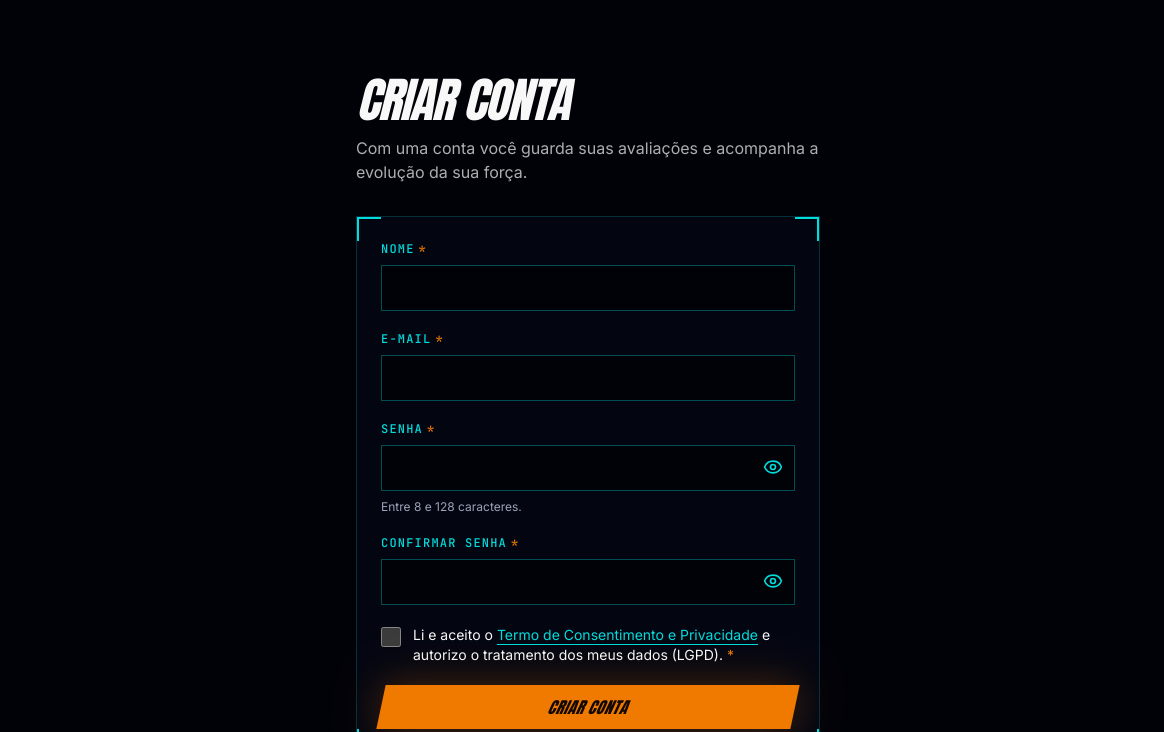
it: CadastroPage › cria a conta, entra automaticamente e redireciona para o next
Type "Ana Souza" into the field labelled "Nome*". click: (588,288)
box: x1=381 y1=265 x2=795 y2=311
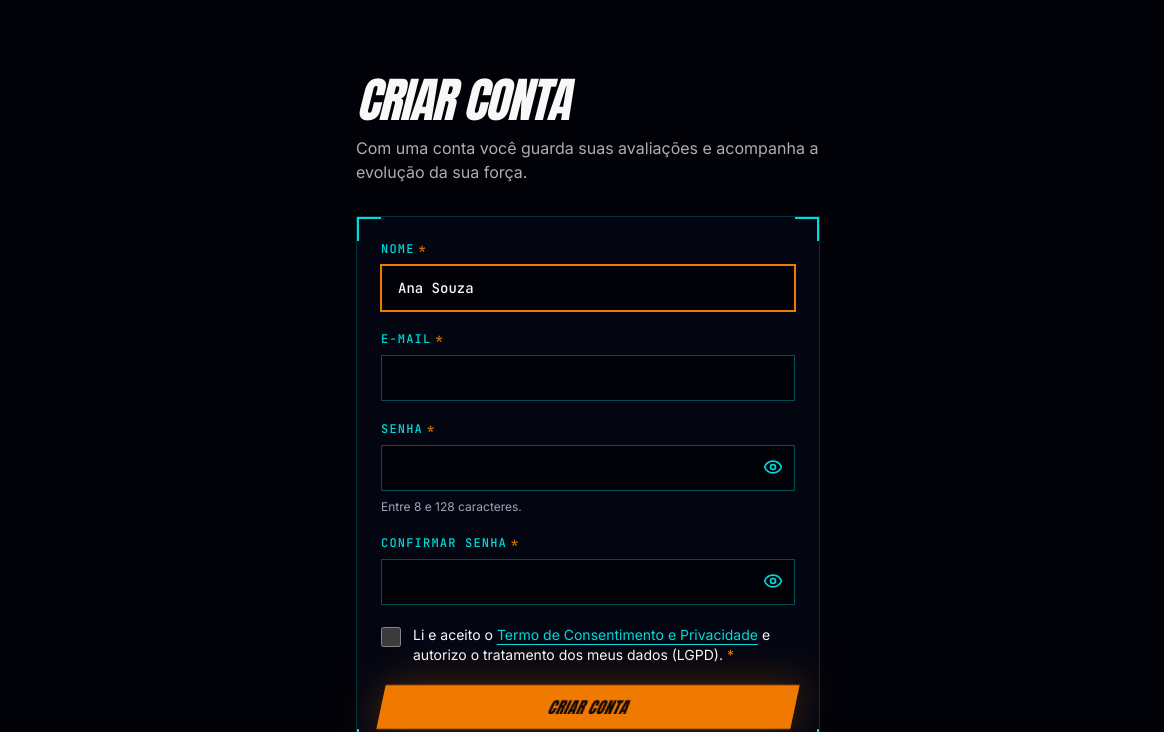
Type "ana@exemplo.com" into the field labelled "E-mail*". click: (588,378)
box: x1=381 y1=355 x2=795 y2=401
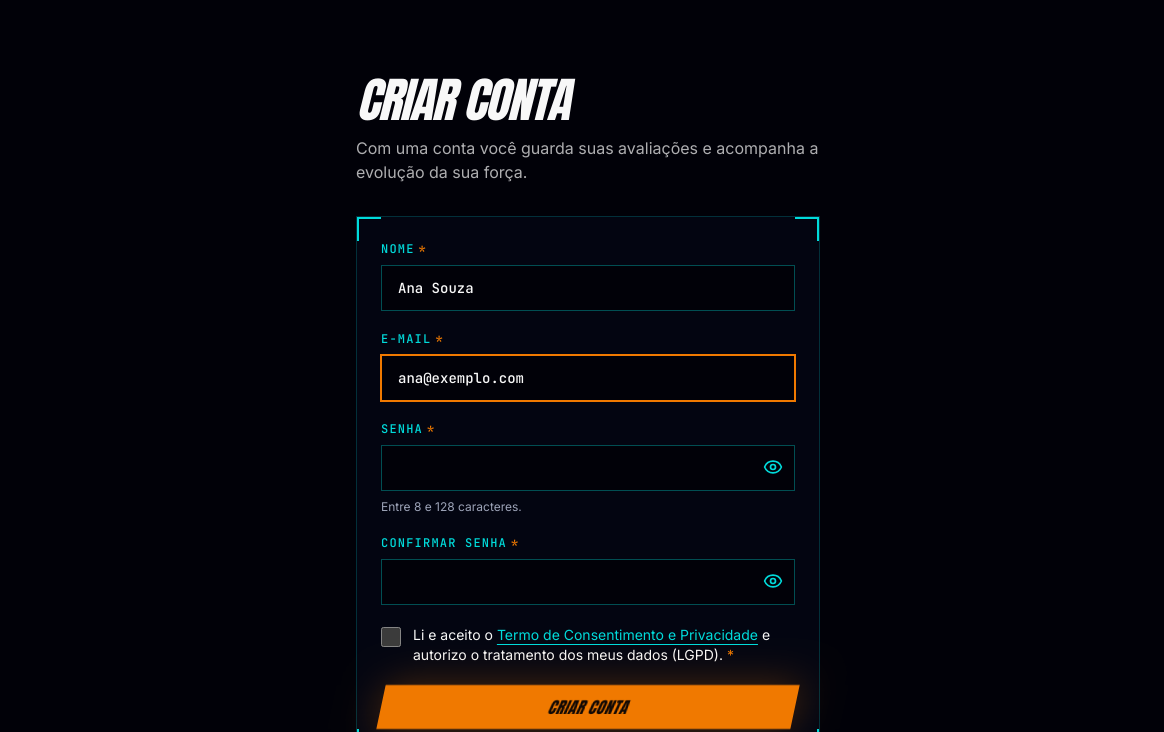
Type "senha-segura-123" into the password field labelled "Senha*". click: (588,468)
box: x1=381 y1=445 x2=795 y2=491
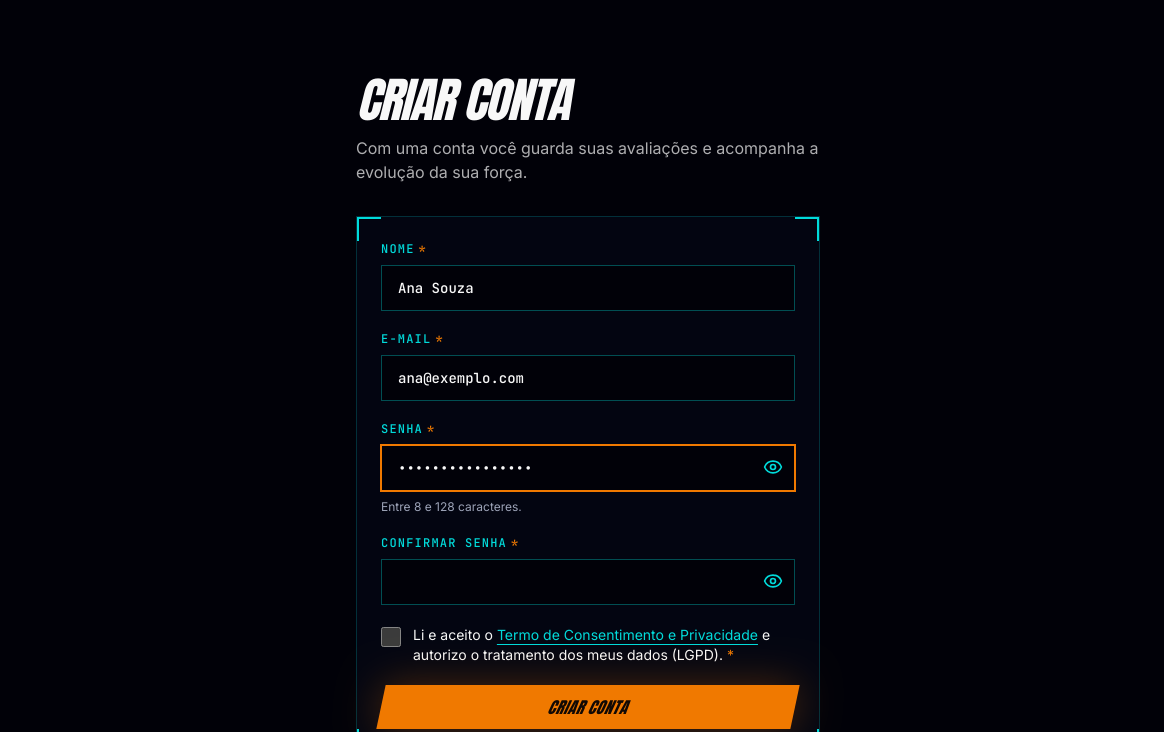
Type "senha-segura-123" into the password field labelled "Confirmar senha*". click: (588,582)
box: x1=381 y1=559 x2=795 y2=605
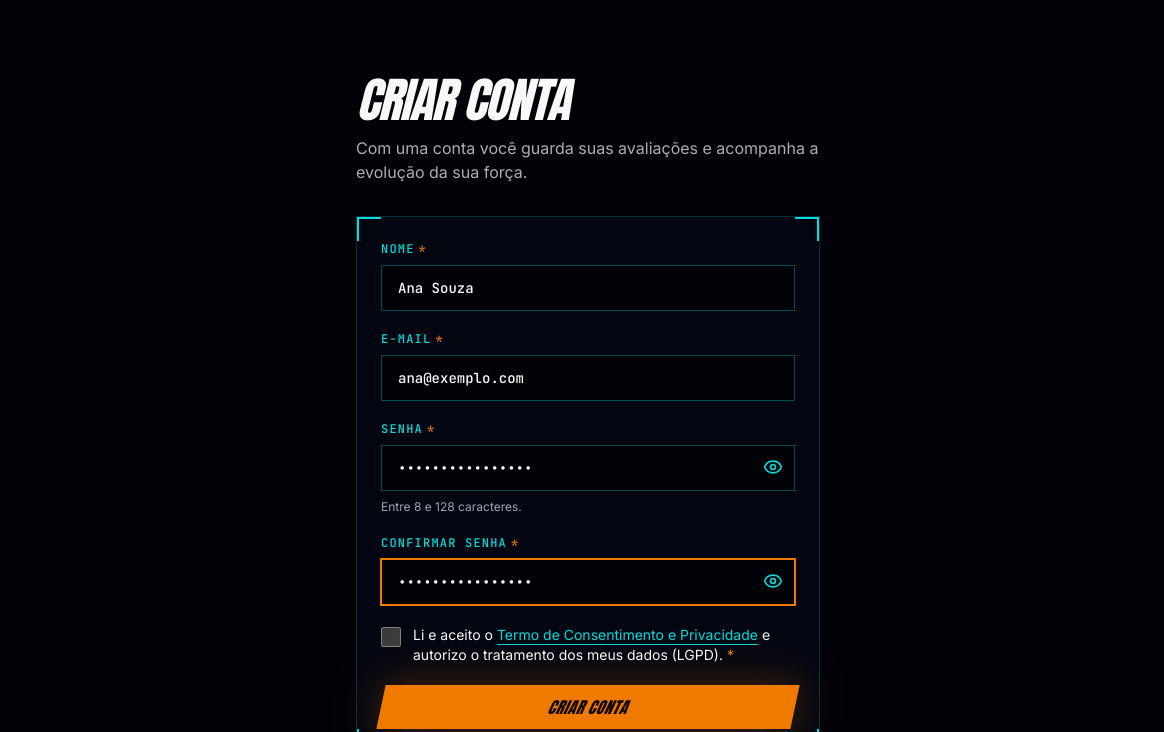
Click the checkbox labelled "Li e aceito". click: (391,637)
box: x1=381 y1=627 x2=401 y2=647
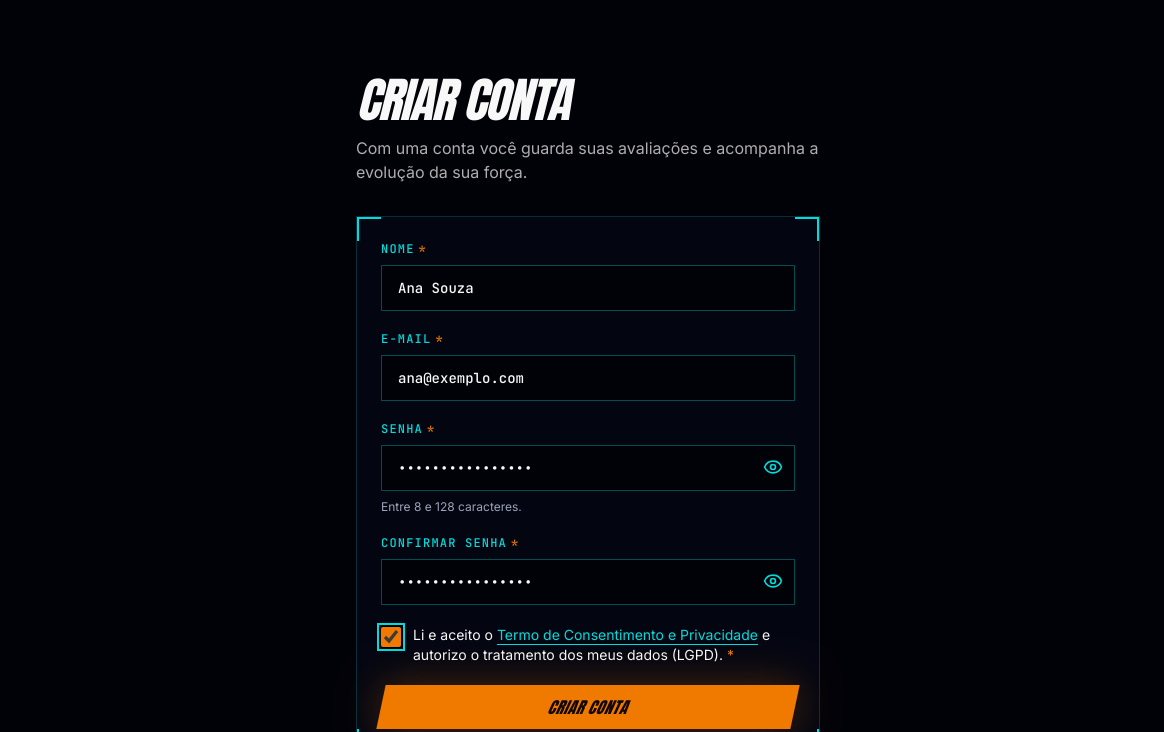
Click the button "Criar conta". click: (588,707)
box: x1=376 y1=685 x2=800 y2=729
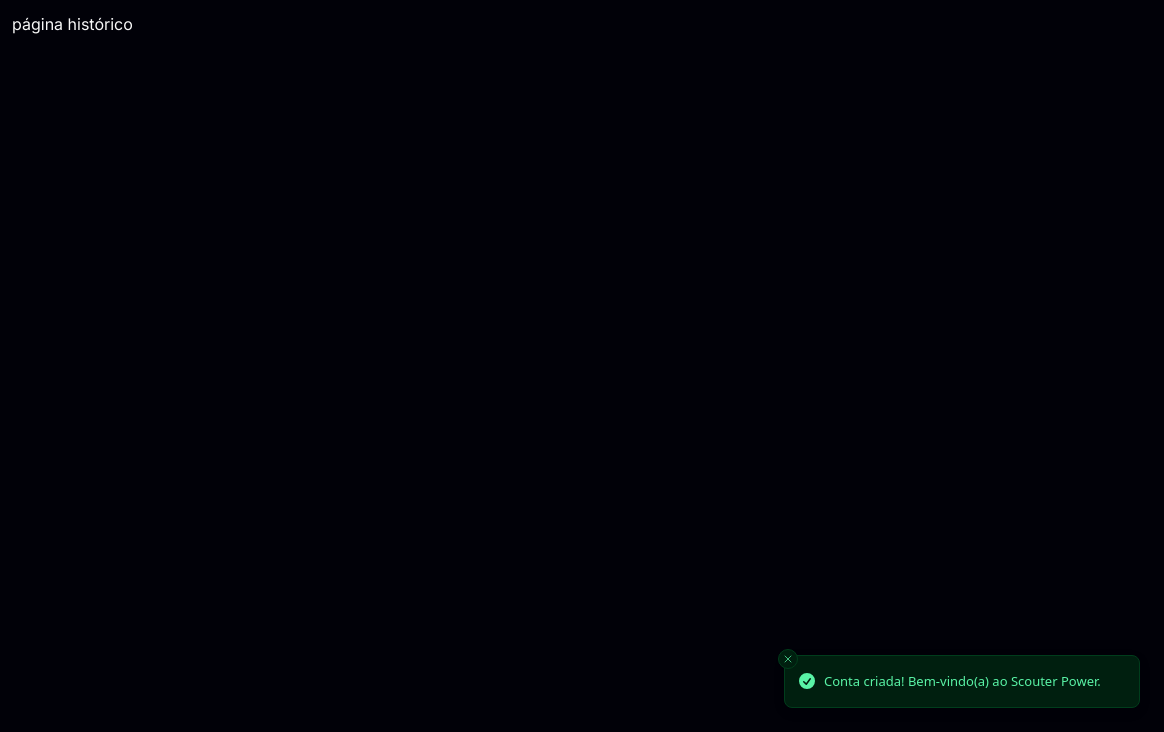
Now the text "página histórico" is shown, box x1=12 y1=14 x2=133 y2=34
